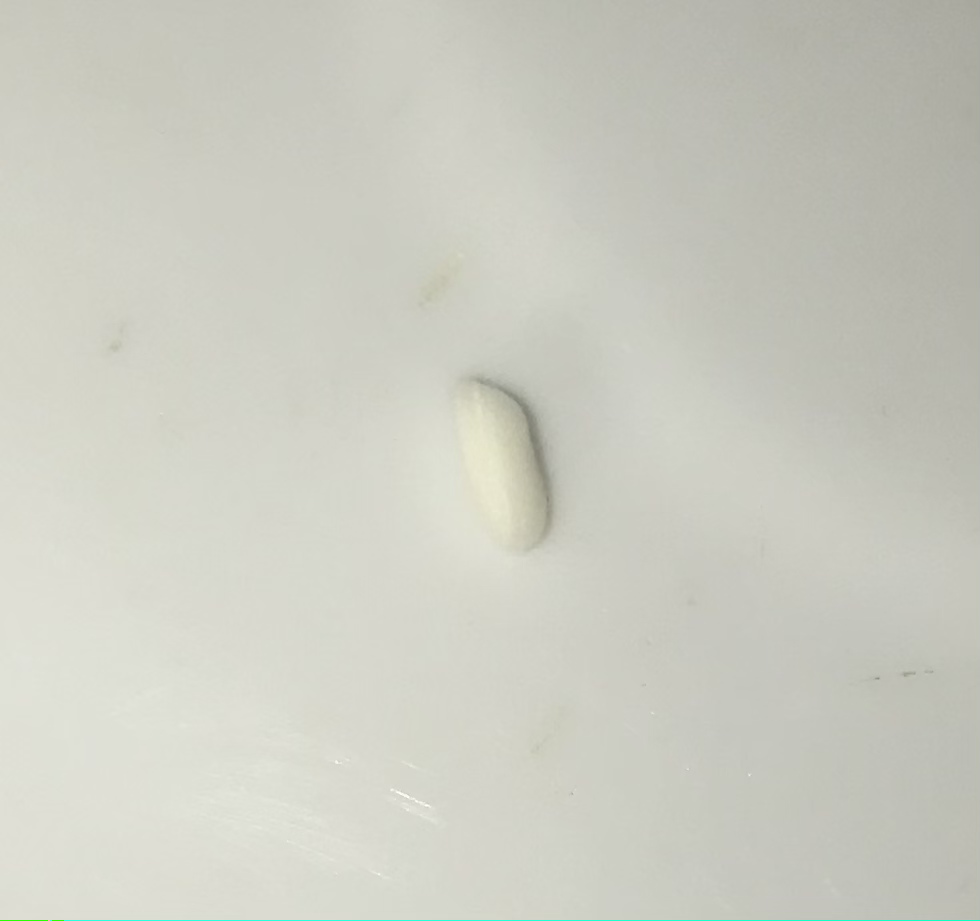Gao Nep Sap: (421, 359, 580, 573)
